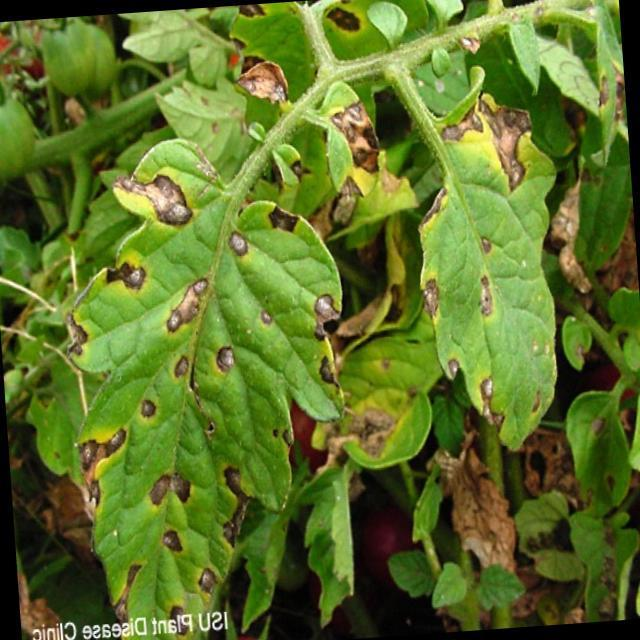Septoria: (76, 162, 358, 612), (420, 218, 510, 437)
